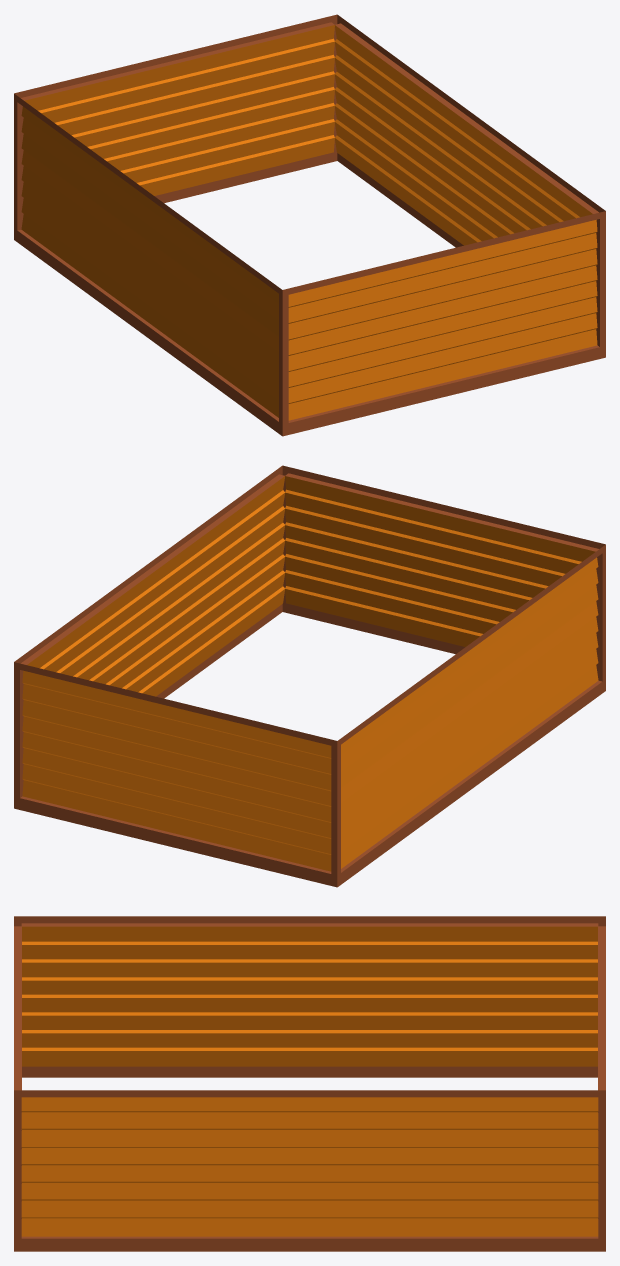
File: MAINBODY.fbx
3 views of the same model, one above another, from view 1: azimuth 30°, elevation 25°; view 2: azimuth 150°, elevation 25°; view 3: azimuth 270°, elevation 25° (orthographic). The views are drawn at different scales.
Parts seen in each view (by area): view 1: Plane.005; view 2: Plane.005; view 3: Plane.005.
Boxes of the visible parts, x1,y1,x2,y2 form: Plane.005: (14, 14, 605, 436); Plane.005: (14, 465, 605, 887); Plane.005: (14, 916, 605, 1251).
Size of the model in its own units: 693 by 300 by 997.
